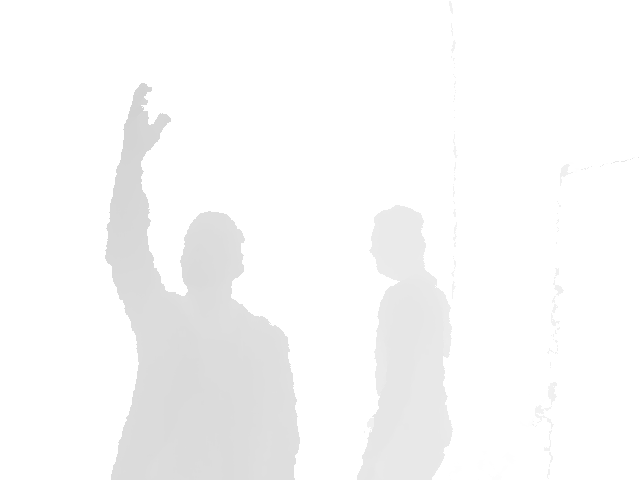hand: (122, 82, 171, 159)
head: (178, 210, 245, 304), (368, 204, 428, 282)
person: (102, 82, 301, 480), (354, 204, 454, 480)
